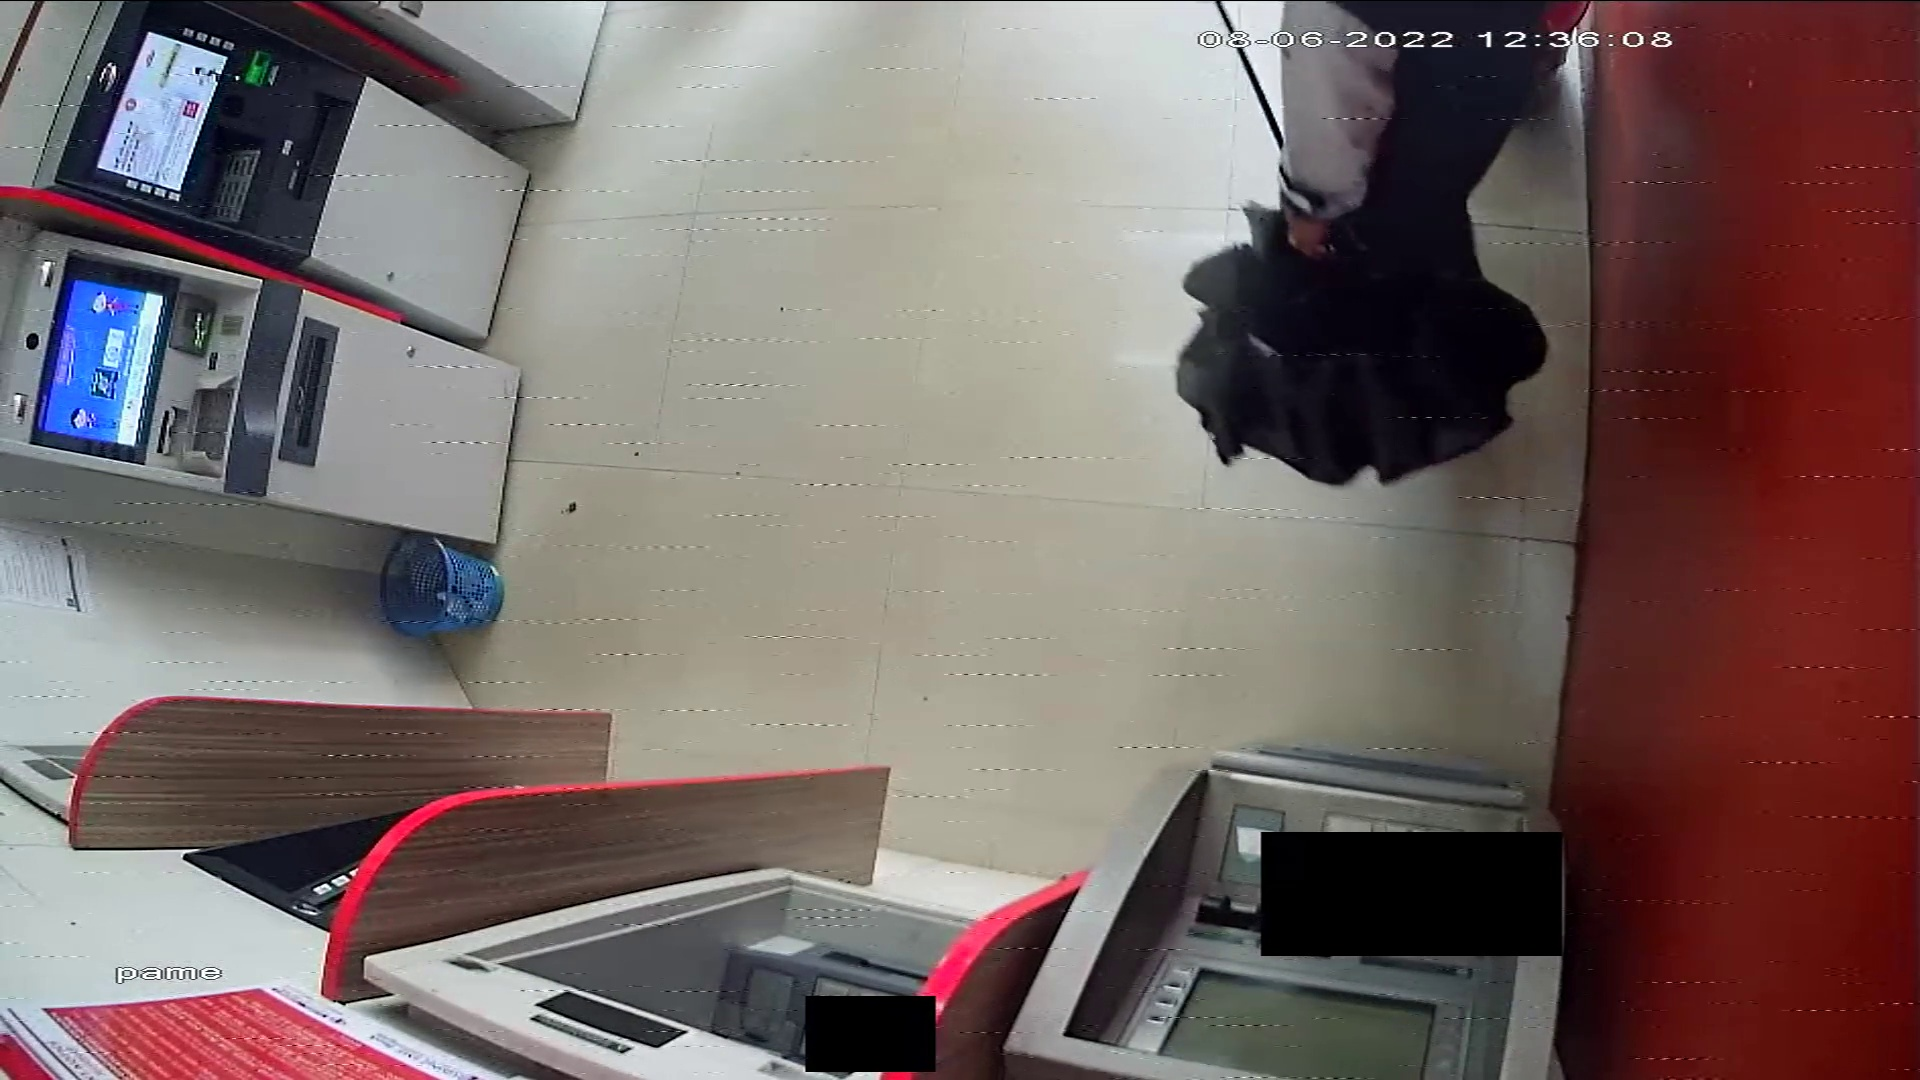person: (1275, 1, 1541, 270)
